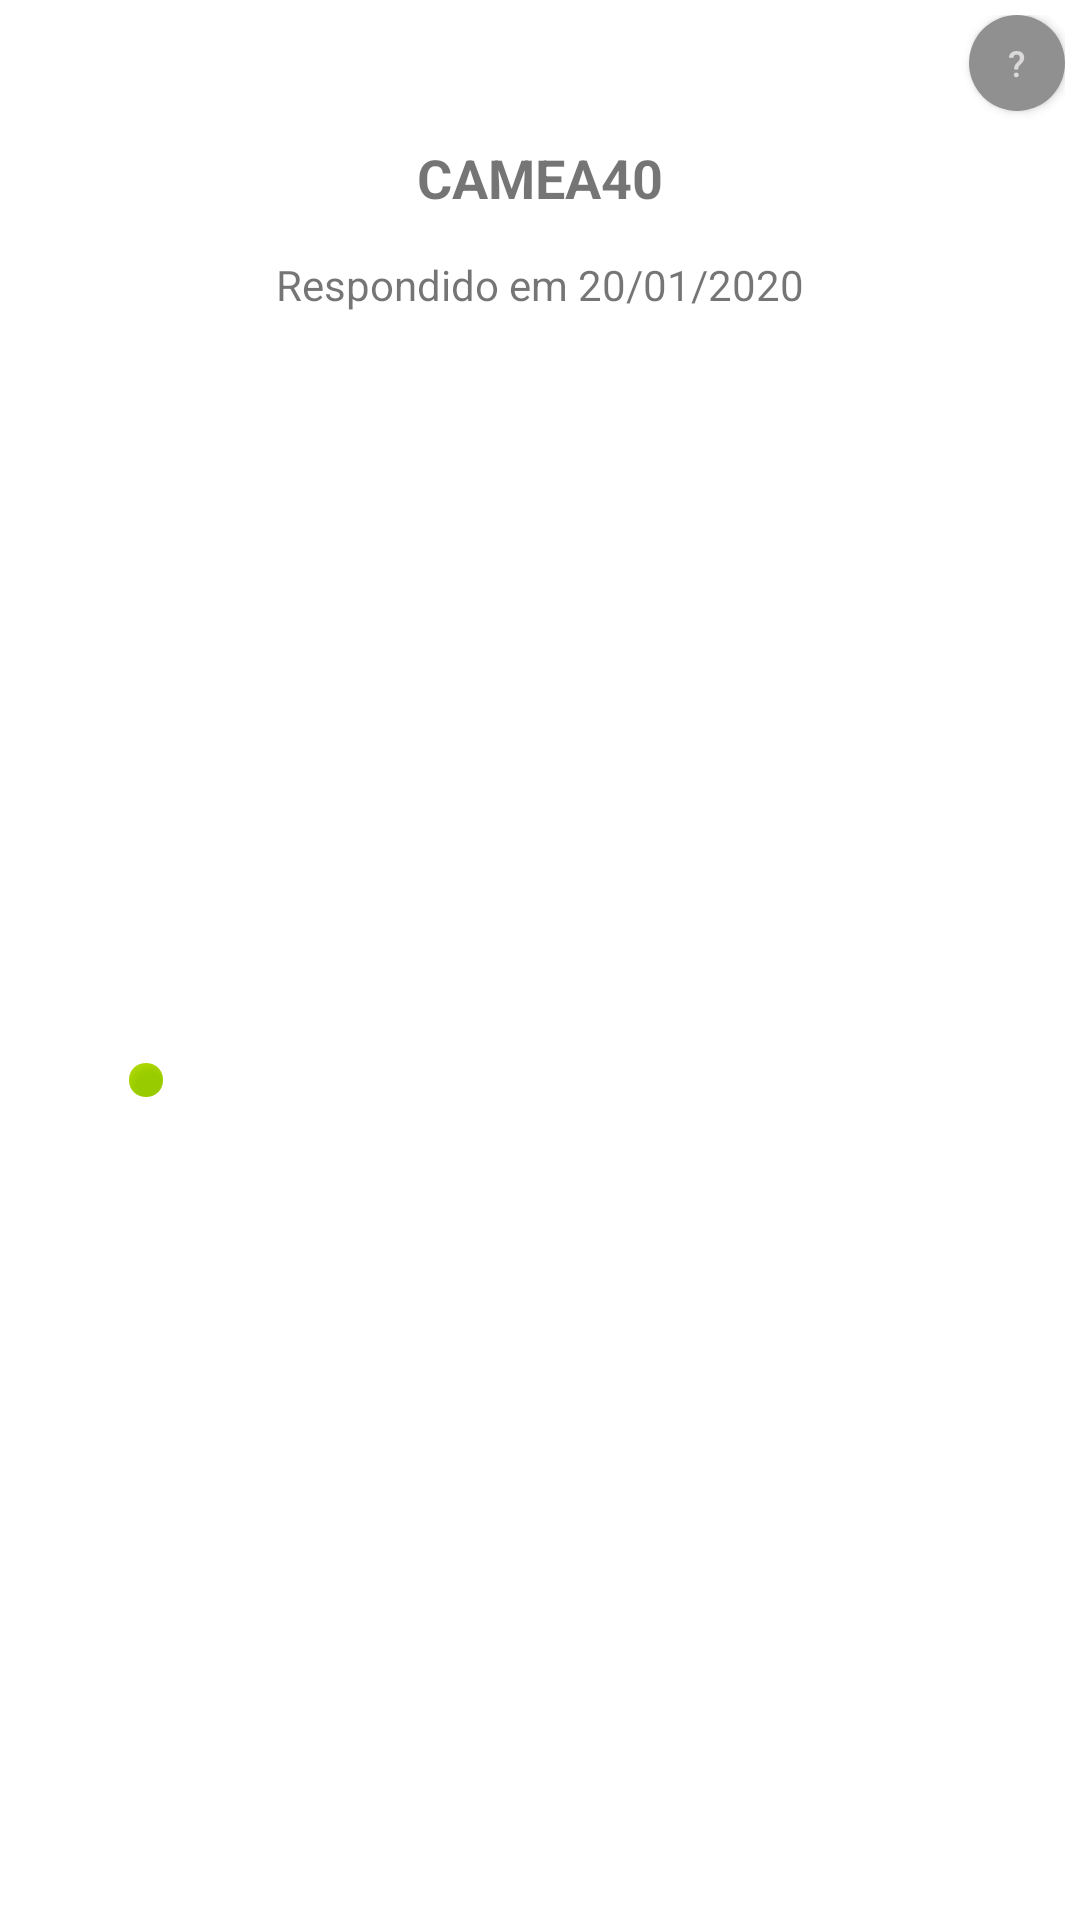

Point at icon controls on the screen. Image size 1080 x 1920, points as point (x, y).
presence online: point (146, 1080)
